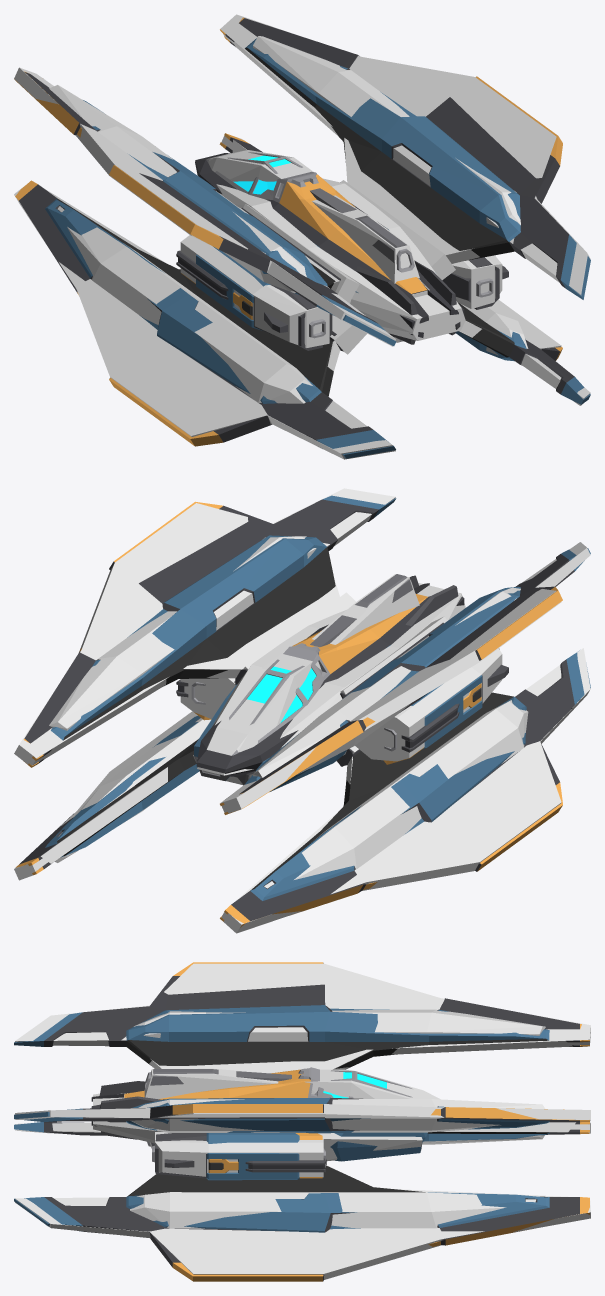
File: SM_Ship_Stealth_04.fbx
The picture shows the model from 3 angles, top to bottom: view 1: azimuth 30°, elevation 25°; view 2: azimuth 150°, elevation 25°; view 3: azimuth 270°, elevation 25°; orthographic projection. The views are drawn at different scales.
Parts seen in each view (by area): view 1: SM_Ship_Stealth_04_ConvexHulls, SM_Ship_Stealth_04_LOD0; view 2: SM_Ship_Stealth_04_ConvexHulls, SM_Ship_Stealth_04_LOD0; view 3: SM_Ship_Stealth_04_LOD0, SM_Ship_Stealth_04_ConvexHulls.
Part boxes in pixels (bbox=[...]): SM_Ship_Stealth_04_ConvexHulls: bbox=[14, 14, 590, 459]; SM_Ship_Stealth_04_LOD0: bbox=[14, 17, 590, 458]; SM_Ship_Stealth_04_ConvexHulls: bbox=[14, 488, 590, 933]; SM_Ship_Stealth_04_LOD0: bbox=[15, 495, 590, 927]; SM_Ship_Stealth_04_LOD0: bbox=[14, 962, 589, 1281]; SM_Ship_Stealth_04_ConvexHulls: bbox=[15, 963, 590, 1279].
Bounding box in the file's own units: 1568 × 935 × 532.
1 material, 1 textured.
